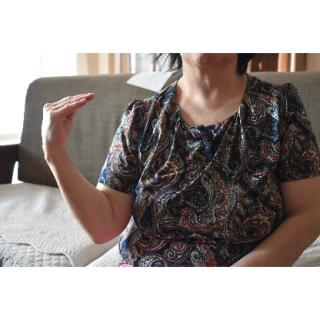HAA: (40, 90, 96, 156)
